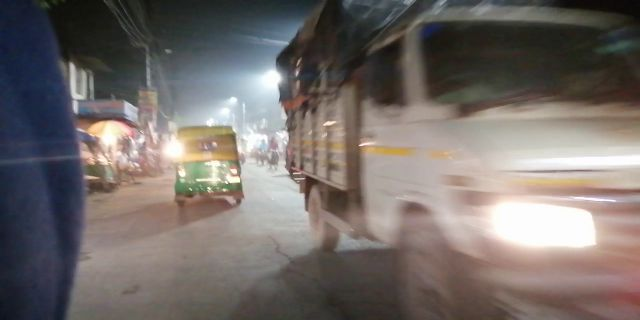Autorickshaw: (173, 120, 246, 207)
Truck: (294, 9, 634, 294)
